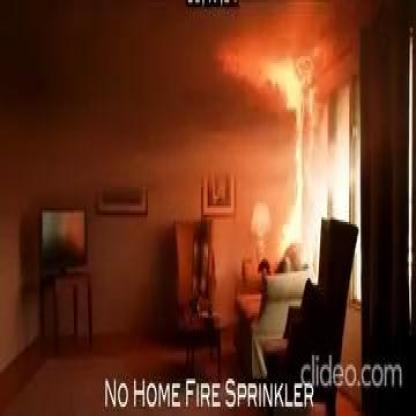fire: (228, 47, 312, 119), (278, 117, 304, 238)
